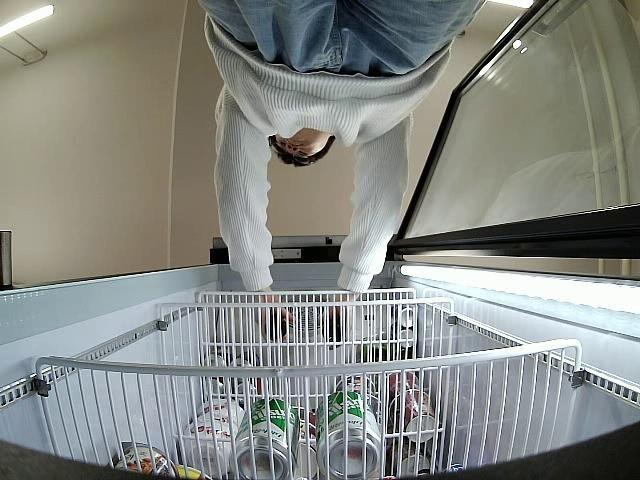17_vita500: (317, 318, 345, 340), (266, 318, 286, 340)
